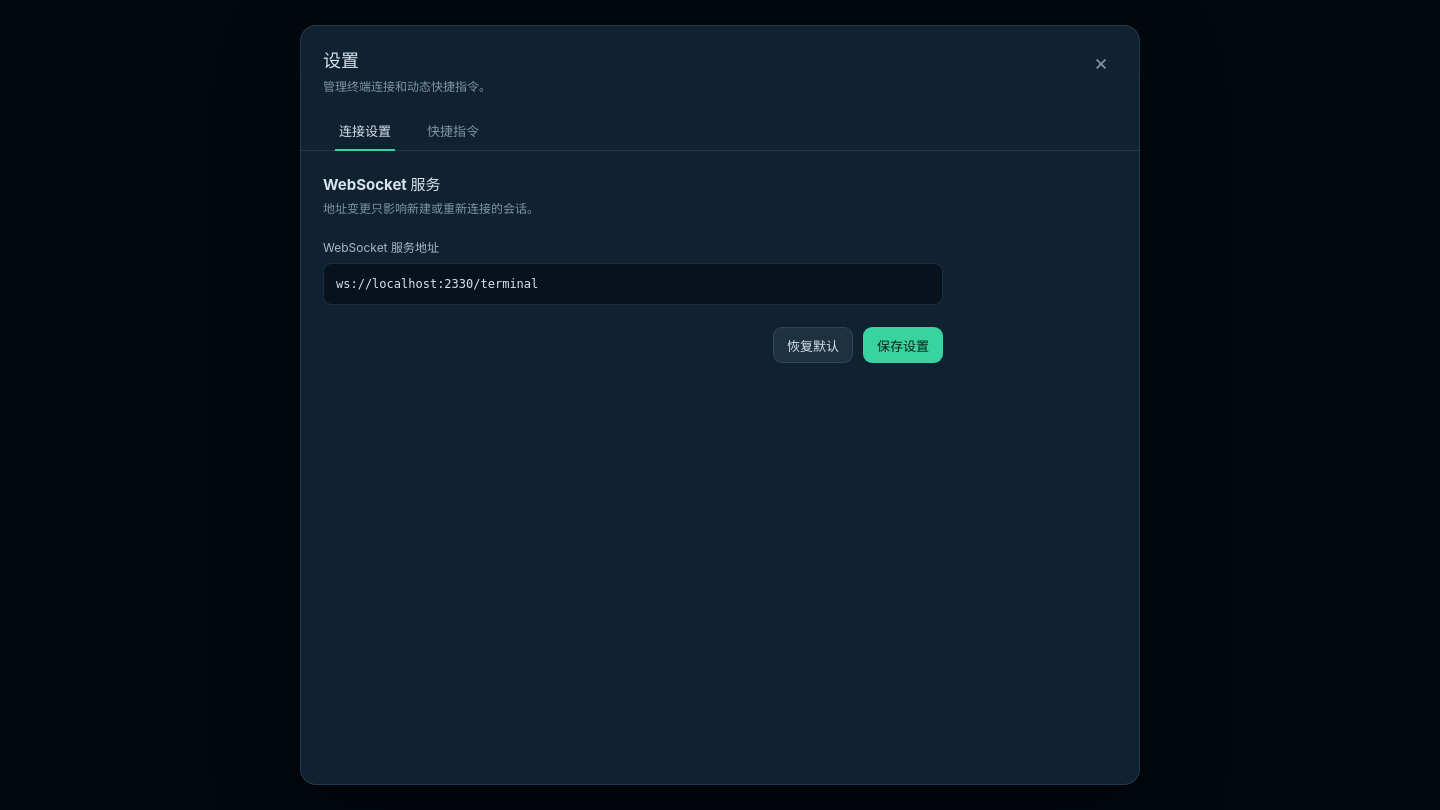
Test: settings UI › 在设置页切换连接设置和快捷指令
Check: the dialog shows "WebSocket 服务", box [323,175,440,194]
Click the tab "快捷指令": {"x": 453, "y": 130} [411,110,495,150]
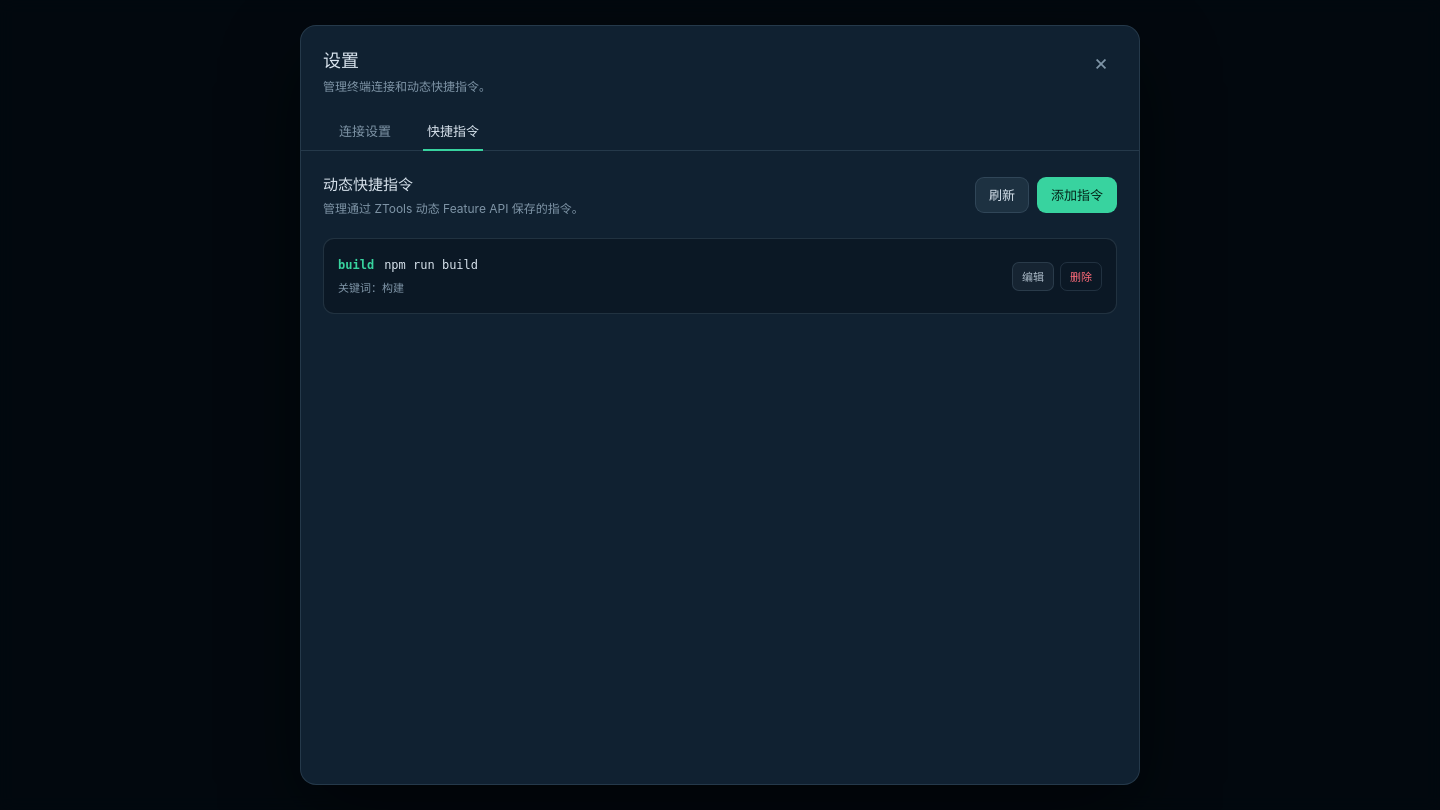
Check: the text "npm run build" is shown, box [384,258,478,272]
